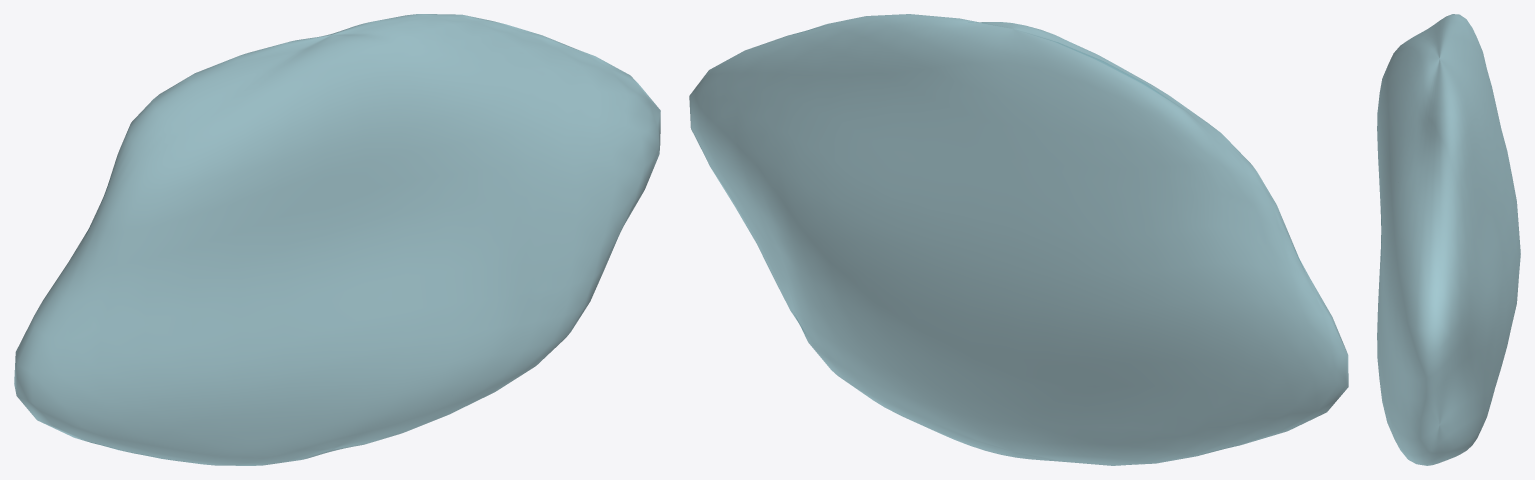
File: membrane.glb
3 renders of one model, left to right at view 1: azimuth 30°, elevation 25°; view 2: azimuth 150°, elevation 25°; view 3: azimuth 270°, elevation 25°, orthographic. The views are drawn at different scales.
Visible parts, largest first — view 1: LMW_Membrane; view 2: LMW_Membrane; view 3: LMW_Membrane.
Boxes of the visible parts, x1,y1,x2,y2 form: LMW_Membrane: [14, 14, 660, 465]; LMW_Membrane: [689, 14, 1348, 465]; LMW_Membrane: [1377, 14, 1520, 465].
Size of the model in its own units: 5.85 by 3.6 by 1.28.
